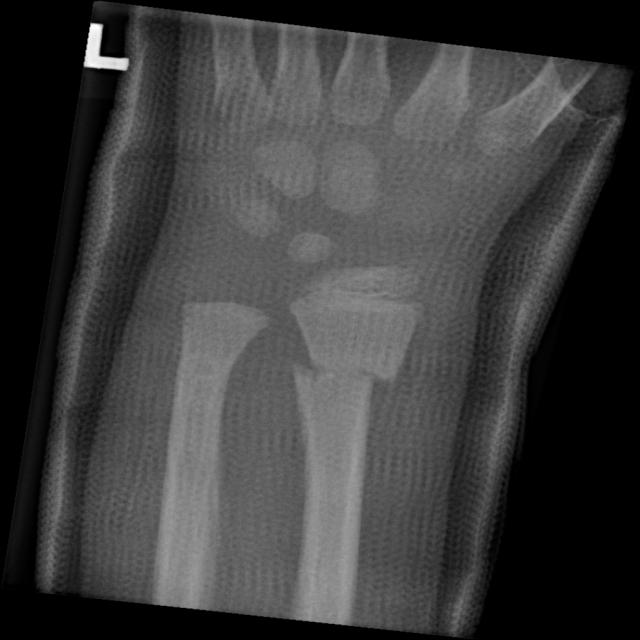radius fracture: (279, 325, 427, 433)
